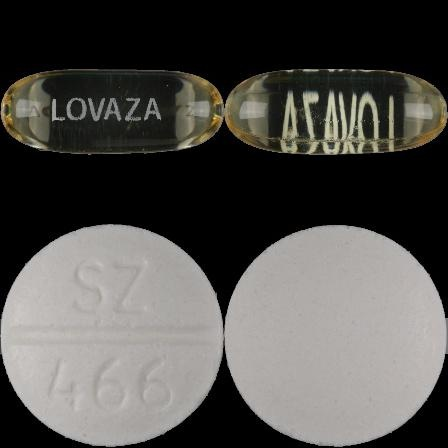21695-795: (0, 0, 224, 224)
